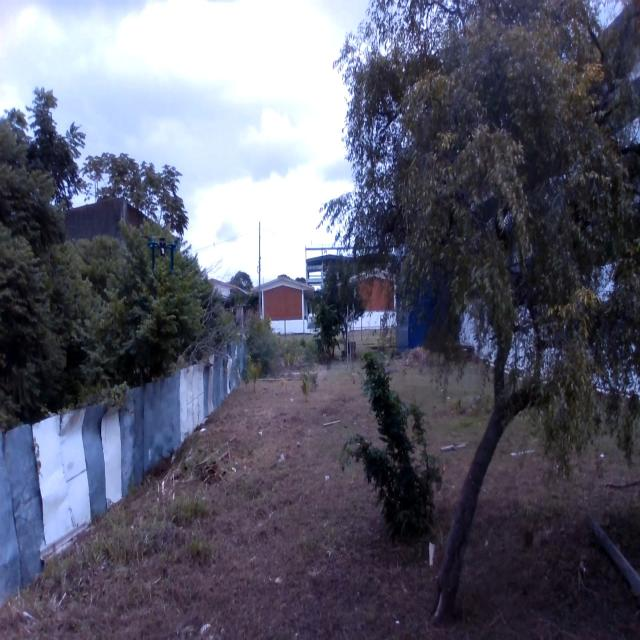-uav-: (140, 220, 182, 272)
